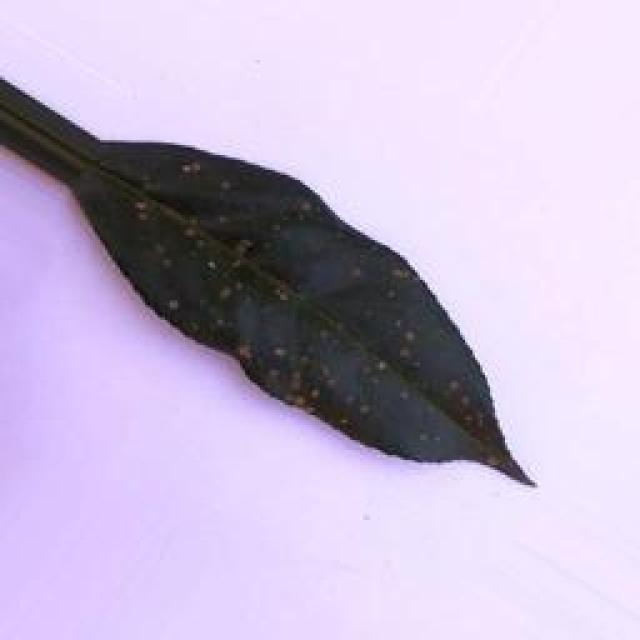Algal Leaf Spot: (83, 114, 547, 499)
